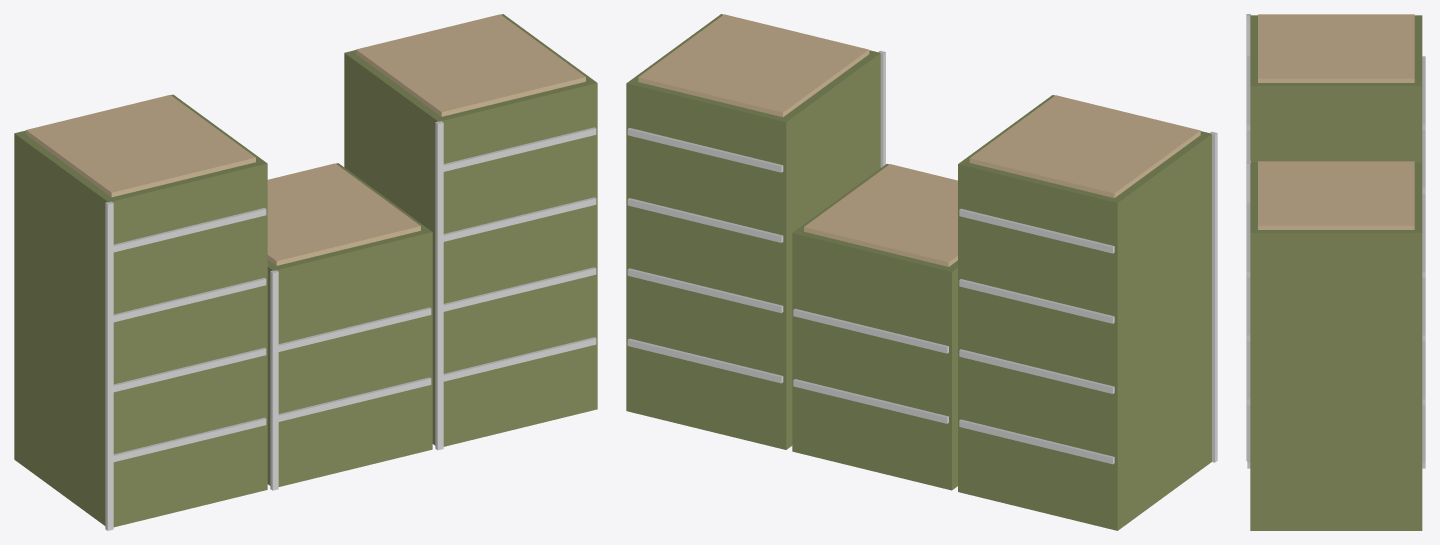
File: SM_HescoCorto3_v2_Escalonado_e0_Sano_LOD0.fbx
3 renders of one model, left to right at view 1: azimuth 30°, elevation 25°; view 2: azimuth 150°, elevation 25°; view 3: azimuth 270°, elevation 25°, orthographic. The views are drawn at different scales.
Parts seen in each view (by area): view 1: SM_hesco_piezas_v88_LOD0; view 2: SM_hesco_piezas_v88_LOD0; view 3: SM_hesco_piezas_v88_LOD0.
Boxes of the visible parts, box(x1,y1,x2,y2) form: SM_hesco_piezas_v88_LOD0: box(14, 14, 597, 530); SM_hesco_piezas_v88_LOD0: box(626, 14, 1217, 530); SM_hesco_piezas_v88_LOD0: box(1246, 14, 1425, 530).
Size of the model in its own units: 3.31 by 2.13 by 1.14.
